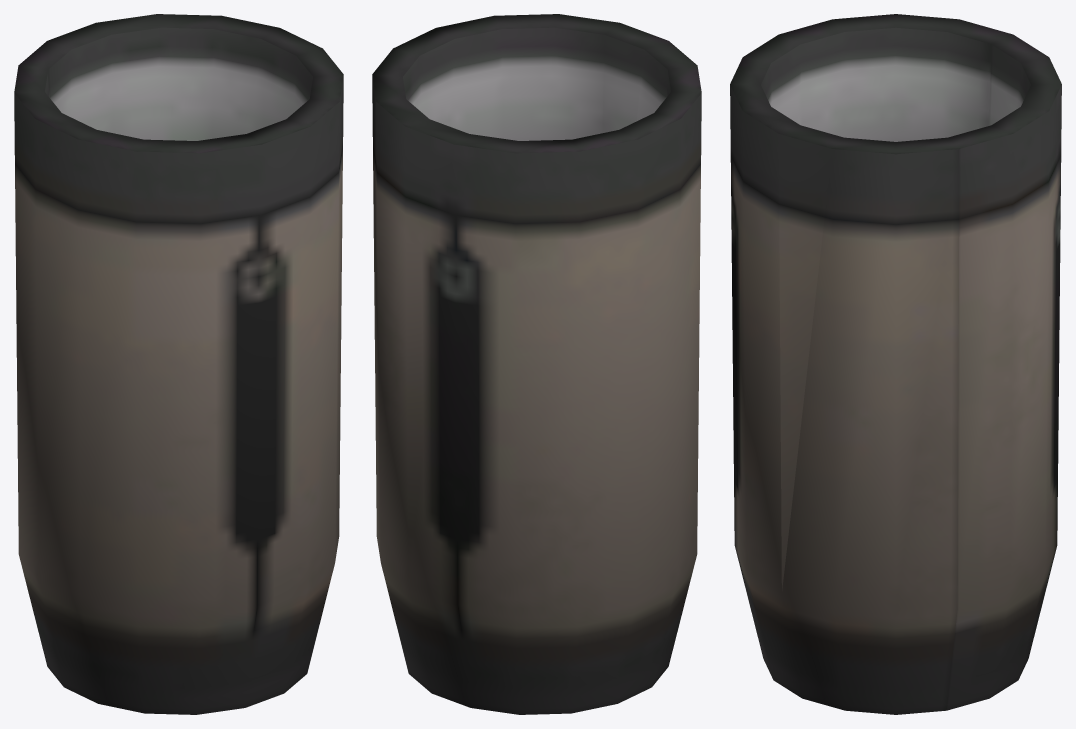
File: Cup_01.FBX
3 views of the same model, side by side, from view 1: azimuth 30°, elevation 25°; view 2: azimuth 150°, elevation 25°; view 3: azimuth 270°, elevation 25° (orthographic).
Visible parts, largest first — view 1: Cup_01; view 2: Cup_01; view 3: Cup_01.
Boxes of the visible parts, x1,y1,x2,y2 form: Cup_01: [14, 14, 343, 714]; Cup_01: [372, 14, 701, 714]; Cup_01: [730, 14, 1061, 714].
Bounding box in the file's own units: 0.1048 × 0.2003 × 0.1048.
